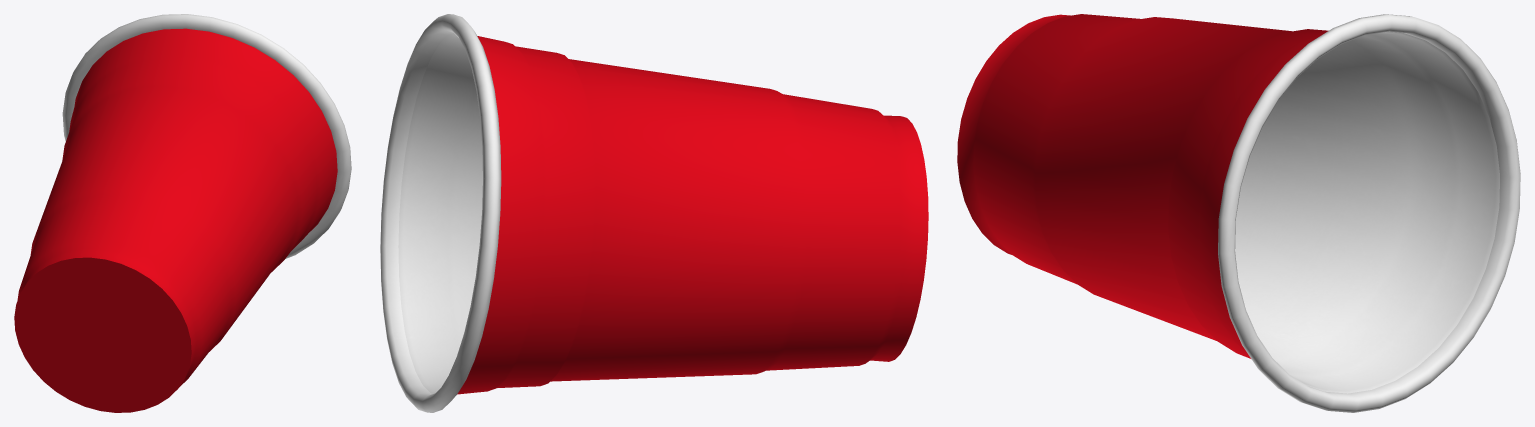
File: singleredcup.glb
3 views of the same model, side by side, from view 1: azimuth 30°, elevation 25°; view 2: azimuth 150°, elevation 25°; view 3: azimuth 270°, elevation 25° (orthographic). The views are drawn at different scales.
Size of the model in its own units: 0.3375 by 0.2352 by 0.3323.
Materials: 1 (1 with a texture image).
